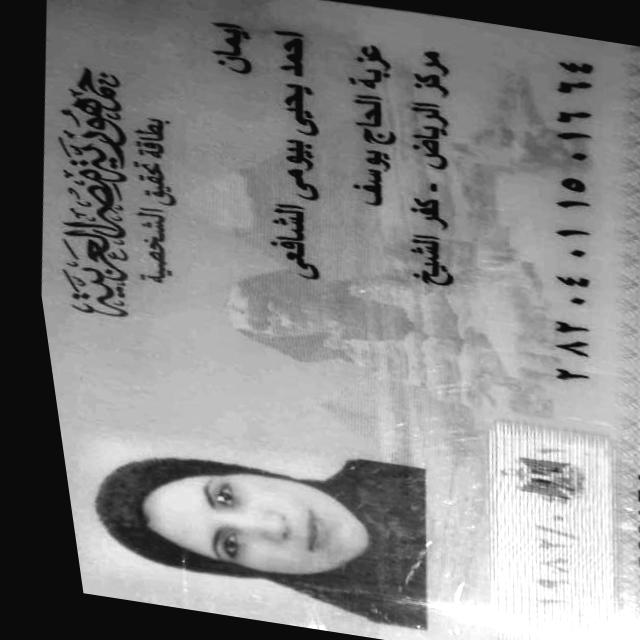id_card: (41, 0, 640, 640)
